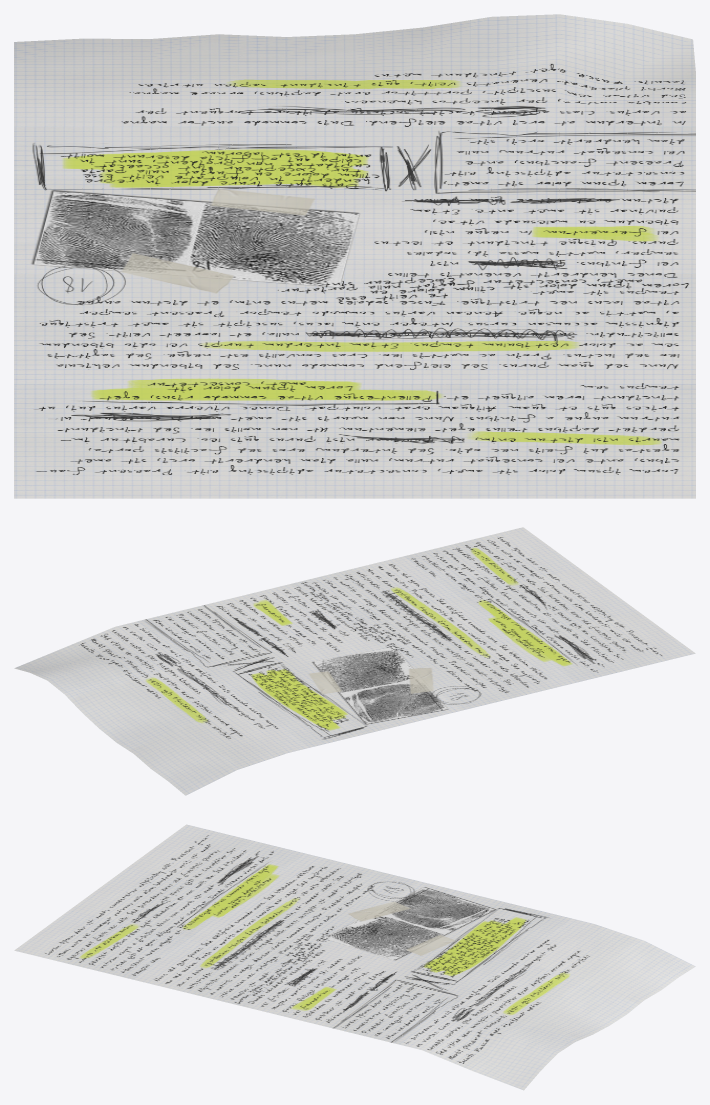
The model's file is Paper 3NEW.fbx.
The picture shows the model from 3 angles, top to bottom: view 1: azimuth 30°, elevation 25°; view 2: azimuth 150°, elevation 25°; view 3: azimuth 270°, elevation 25°; orthographic projection. The views are drawn at different scales.
Parts seen in each view (by area): view 1: Paper 3; view 2: Paper 3; view 3: Paper 3.
Boxes of the visible parts, box(x1,y1,x2,y2) form: Paper 3: box(14, 14, 695, 498); Paper 3: box(14, 527, 695, 795); Paper 3: box(14, 824, 695, 1090).
Bounding box in the file's own units: 152 × 5.03 × 176.
